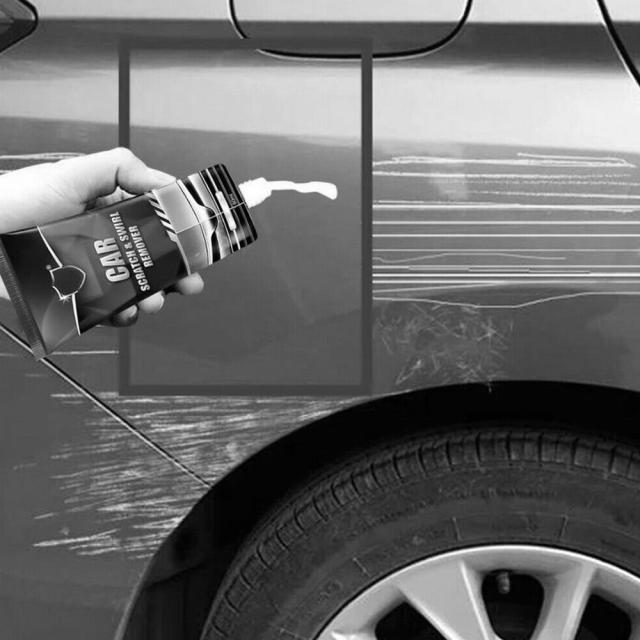scratch: (0, 144, 640, 567)
